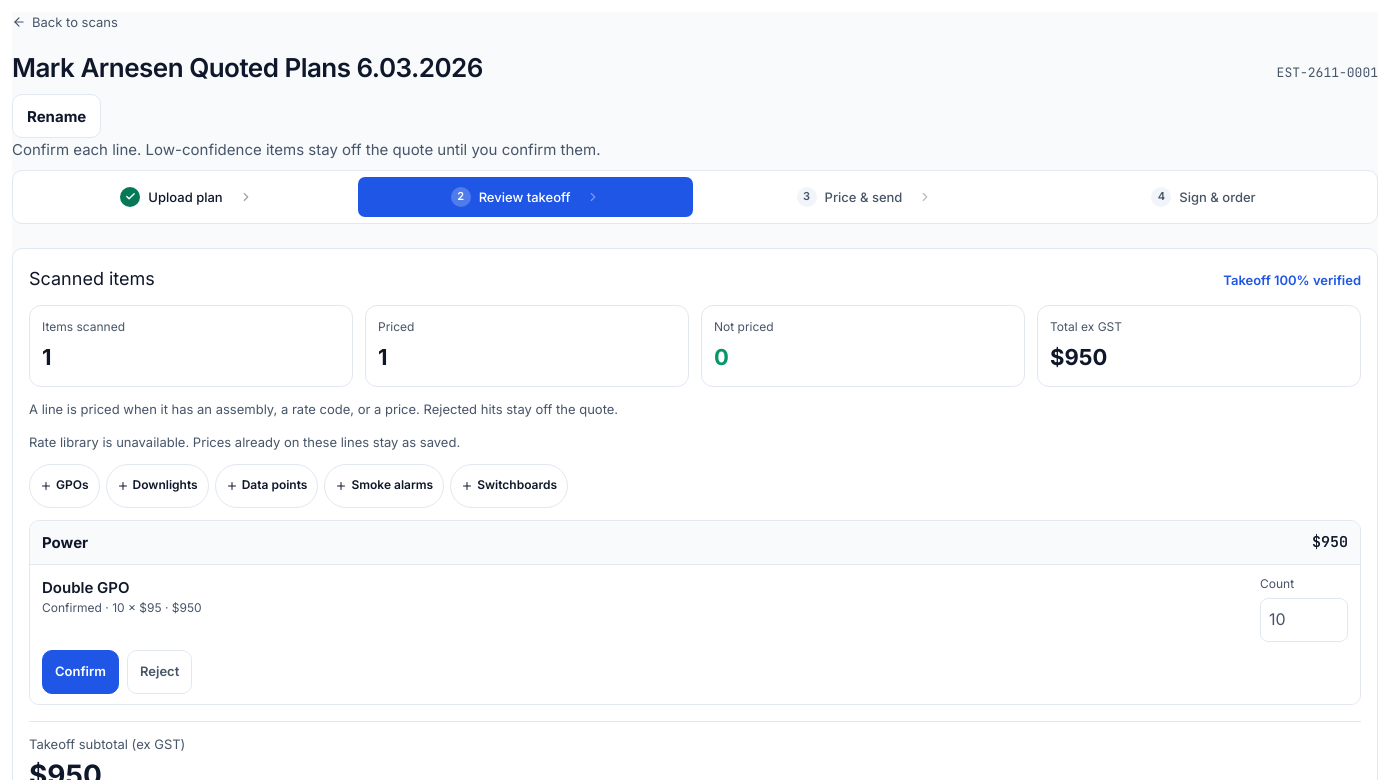
it: Price & send labour breakdown › prices EST-2611-0003 labour from the saved rate card, not a zero labour unit
Step 1. Click the button "3 Price & send" → point(864, 197), box [697,177,1032,217]
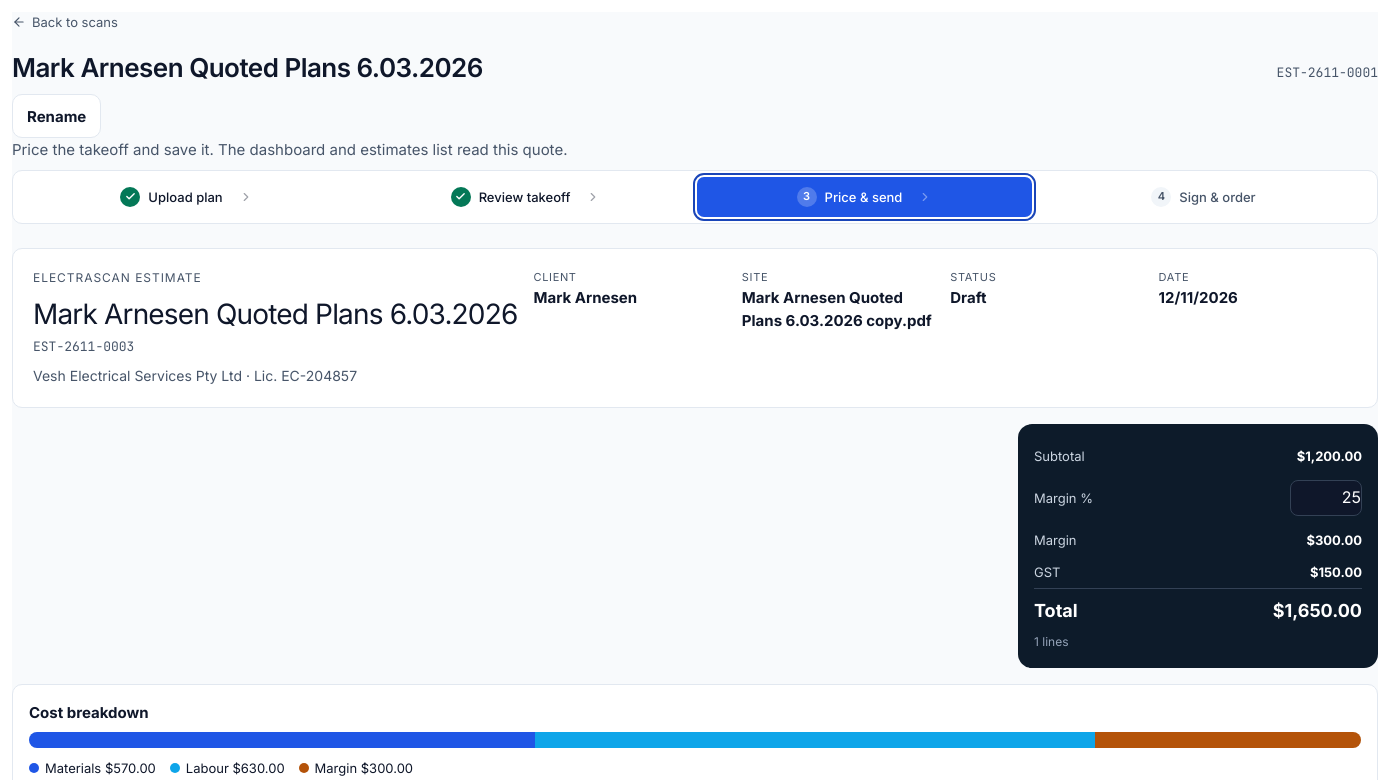
expect the text "Labour $630.00" is shown: met, box [170,758,285,778]
expect the text "Materials $570.00" is shown: met, box [29,758,156,778]
expect the text "EST-2611-0003" is shown: met, box [33,338,134,355]
